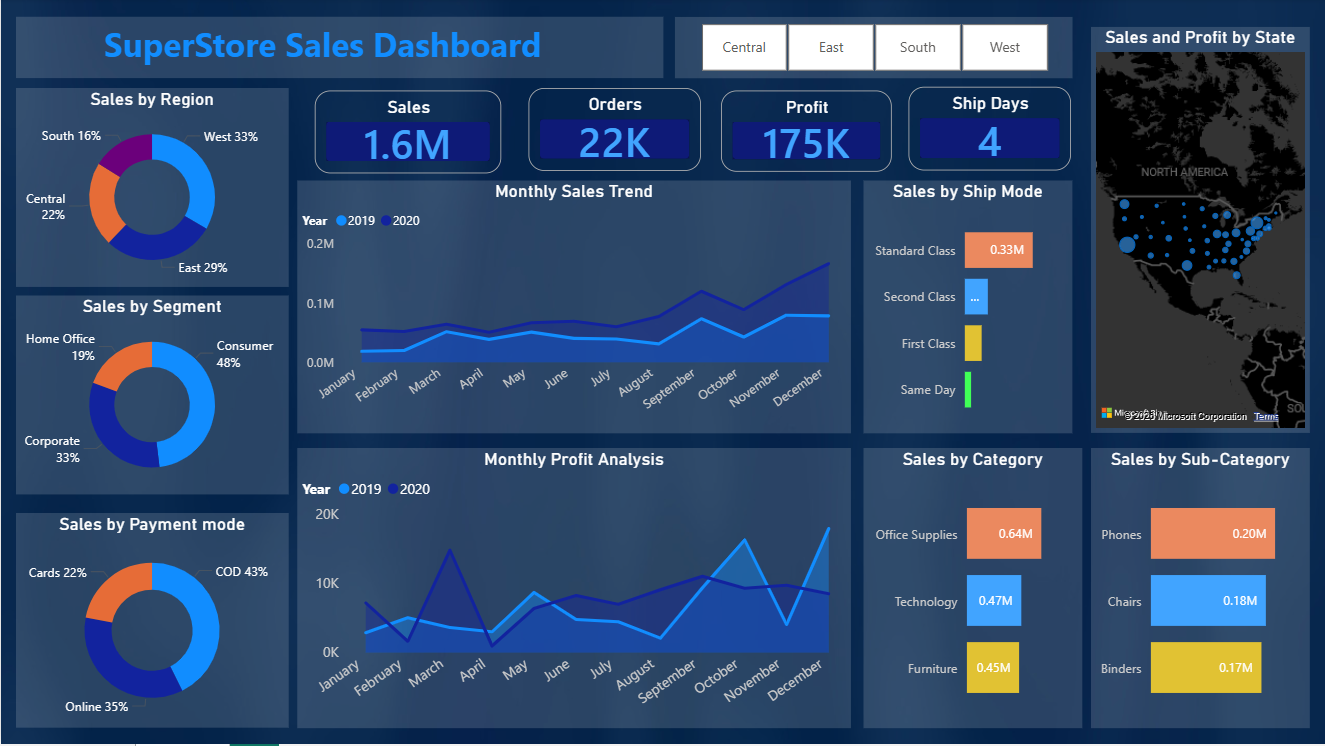

The page's visual inventory and layout, read from the dashboard file:
{"tool":"powerbi","page":{"name":"Sales Dashbboard","canvas":[1280,720],"ordinal":0},"visuals":[{"type":"clusteredBarChart","title":"Sales by Category","fields":{"Category":["SuperStore_Sales_Dataset.Category"],"Y":["Sum(SuperStore_Sales_Dataset.Sales)"]},"box":[832.4,434.3,211.1,270.2],"z":0},{"type":"clusteredBarChart","title":"Sales by Sub-Category","fields":{"Category":["SuperStore_Sales_Dataset.Sub-Category"],"Y":["Sum(SuperStore_Sales_Dataset.Sales)"]},"box":[1052,434.3,211.1,270.2],"z":1000},{"type":"clusteredBarChart","title":"Sales by Ship Mode","fields":{"Category":["SuperStore_Sales_Dataset.Ship Mode"],"Y":["Sum(SuperStore_Sales_Dataset.Sales)"]},"box":[832.4,176.1,201.5,243.7],"z":2000},{"type":"areaChart","title":"Monthly Sales Trend","fields":{"Y":["Sum(SuperStore_Sales_Dataset.Sales)"],"Series":["SuperStore_Sales_Dataset.Order Date.Variation.Date Hierarchy.Year"],"Category":["SuperStore_Sales_Dataset.Order Date.Variation.Date Hierarchy.Month","SuperStore_Sales_Dataset.Order Date.Variation.Date Hierarchy.Day"]},"box":[285.9,176.1,534.5,243.7],"z":3000},{"type":"areaChart","title":"Monthly Profit Analysis","fields":{"Series":["SuperStore_Sales_Dataset.Order Date.Variation.Date Hierarchy.Year"],"Category":["SuperStore_Sales_Dataset.Order Date.Variation.Date Hierarchy.Month","SuperStore_Sales_Dataset.Order Date.Variation.Date Hierarchy.Day"],"Y":["Sum(SuperStore_Sales_Dataset.Profit)"]},"box":[285.9,434.3,534.5,270.2],"z":4000},{"type":"map","title":"Sales and Profit by State","fields":{"Category":["SuperStore_Sales_Dataset.State"],"Size":["Sum(SuperStore_Sales_Dataset.Sales)"]},"box":[1052,27.7,211.1,392.1],"z":5000},{"type":"donutChart","title":"Sales by Segment","fields":{"Category":["SuperStore_Sales_Dataset.Segment"],"Y":["Sum(SuperStore_Sales_Dataset.Sales)"]},"box":[14.5,287.1,263,191.8],"z":6000},{"type":"donutChart","title":"Sales by Payment mode","fields":{"Y":["Sum(SuperStore_Sales_Dataset.Sales)"],"Category":["SuperStore_Sales_Dataset.Payment Mode"]},"box":[14.5,497.1,263,207.5],"z":7000},{"type":"slicer","fields":{"Values":["SuperStore_Sales_Dataset.Region"]},"box":[650.3,18.1,383.6,59.1],"z":8000},{"type":"textbox","box":[14.4,17.8,624.4,58.9],"z":9000},{"type":"cardVisual","title":"Sales","fields":{"Data":["Sum(SuperStore_Sales_Dataset.Sales)"]},"box":[303,89,180,80],"z":10000},{"type":"cardVisual","title":"Orders","fields":{"Data":["Sum(SuperStore_Sales_Dataset.Quantity)"]},"box":[509,87,166,80],"z":11000},{"type":"cardVisual","title":"Profit","fields":{"Data":["Sum(SuperStore_Sales_Dataset.Profit)"]},"box":[695,89,165,78],"z":12000},{"type":"cardVisual","title":"Ship Days","fields":{"Data":["Avg(SuperStore_Sales_Dataset.AvgDelivery)"]},"box":[876,86,157,81],"z":13000},{"type":"donutChart","title":"Sales by Region","fields":{"Y":["Sum(SuperStore_Sales_Dataset.Sales)"],"Category":["SuperStore_Sales_Dataset.Region"]},"box":[14.5,86.9,263,191.8],"z":14000}]}

Visuals, with their boxes in screenshot pixels (x1, y1, x2, y2), scaled from the page's 1280x720 canvas onto the 1325x746 screenshot:
"Sales by Category" clusteredBarChart: (862,450,1080,730)
"Sales by Sub-Category" clusteredBarChart: (1089,450,1308,730)
"Sales by Ship Mode" clusteredBarChart: (862,182,1070,435)
"Monthly Sales Trend" areaChart: (296,182,849,435)
"Monthly Profit Analysis" areaChart: (296,450,849,730)
"Sales and Profit by State" map: (1089,29,1308,435)
"Sales by Segment" donutChart: (15,297,287,496)
"Sales by Payment mode" donutChart: (15,515,287,730)
slicer - SuperStore_Sales_Dataset.Region: (673,19,1070,80)
textbox: (15,18,661,79)
"Sales" cardVisual: (314,92,500,175)
"Orders" cardVisual: (527,90,699,173)
"Profit" cardVisual: (719,92,890,173)
"Ship Days" cardVisual: (907,89,1069,173)
"Sales by Region" donutChart: (15,90,287,289)
